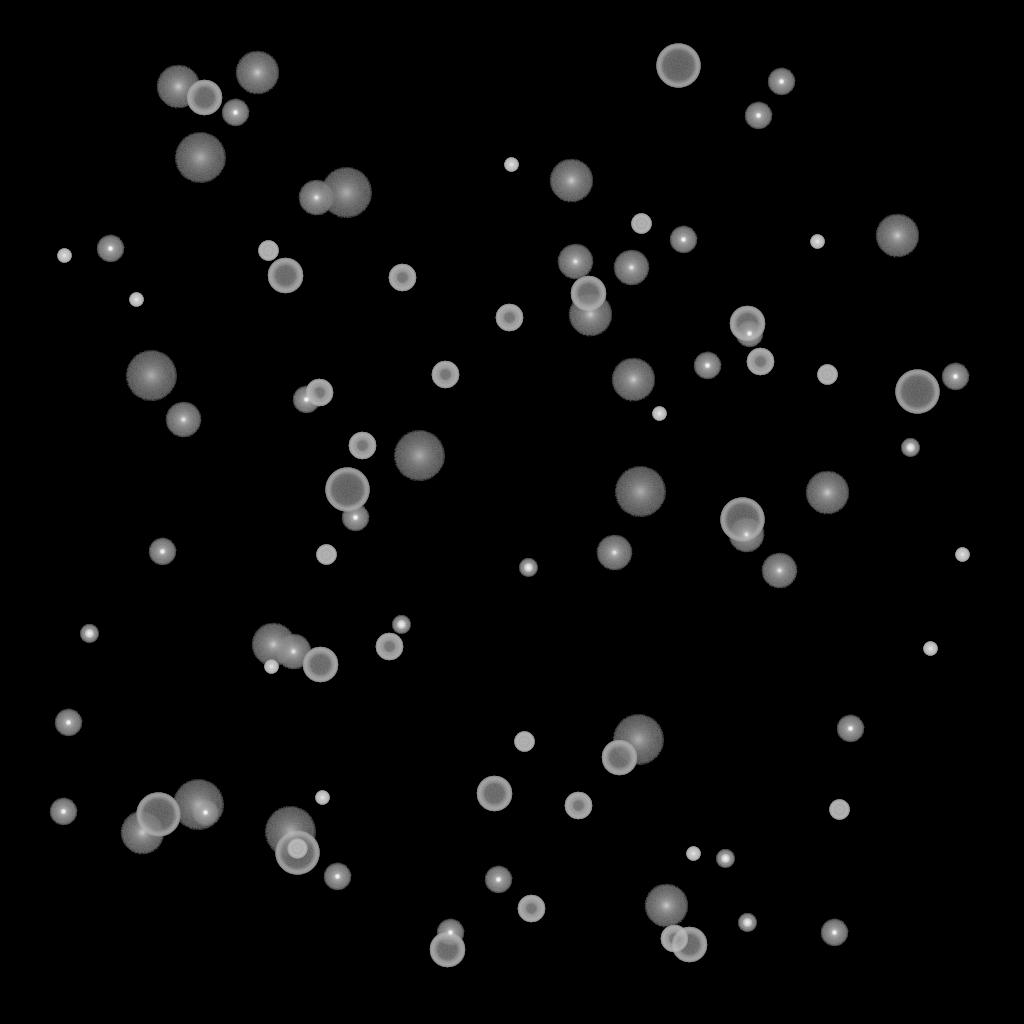depth:-10: (820, 919, 848, 947), (484, 866, 512, 894), (836, 715, 864, 743), (148, 538, 176, 566), (735, 320, 763, 348), (96, 235, 124, 263), (341, 504, 369, 532), (669, 226, 697, 254), (221, 99, 249, 127), (767, 68, 795, 96), (323, 863, 351, 891), (941, 363, 969, 391), (54, 709, 82, 737), (292, 386, 320, 414), (49, 798, 77, 826), (436, 919, 464, 947), (191, 799, 219, 827), (693, 352, 721, 380), (744, 102, 772, 130)
depth:-20: (738, 914, 756, 932), (716, 850, 734, 868), (519, 559, 537, 577), (392, 616, 410, 634), (901, 439, 919, 457), (80, 625, 98, 643)
depth:-30: (57, 249, 71, 263), (652, 407, 666, 421), (955, 548, 969, 562), (686, 847, 700, 861), (129, 293, 143, 307), (264, 660, 278, 674), (504, 158, 518, 172), (923, 642, 937, 656), (810, 235, 824, 249), (315, 791, 329, 805)
depth:-40: (631, 214, 651, 234), (829, 800, 849, 820), (287, 839, 307, 859), (817, 365, 837, 385), (514, 732, 534, 752), (258, 241, 278, 261), (316, 545, 336, 565)
depth:-50: (564, 792, 592, 820), (746, 348, 774, 376), (431, 361, 459, 389), (660, 925, 688, 953), (375, 633, 403, 661), (517, 895, 545, 923), (495, 304, 523, 332), (305, 379, 333, 407), (388, 264, 416, 292), (348, 432, 376, 460)
depth:-60: (570, 276, 606, 312), (729, 306, 765, 342), (671, 927, 707, 963), (186, 80, 222, 116), (267, 258, 303, 294), (429, 932, 465, 968), (476, 776, 512, 812), (601, 740, 637, 776), (302, 647, 338, 683)
depth:-70: (895, 370, 939, 414), (136, 793, 180, 837), (275, 831, 319, 875), (325, 468, 369, 512), (720, 498, 764, 542), (656, 44, 700, 88)
depth:0: (557, 244, 593, 280), (298, 180, 334, 216), (613, 250, 649, 286), (165, 402, 201, 438), (728, 517, 764, 553), (275, 634, 311, 670), (596, 535, 632, 571), (761, 553, 797, 589)
depth:10: (805, 471, 849, 515), (549, 159, 593, 203), (644, 884, 688, 928), (568, 293, 612, 337), (120, 811, 164, 855), (875, 214, 919, 258), (156, 65, 200, 109), (611, 358, 655, 402), (235, 51, 279, 95), (251, 623, 295, 667)
depth:20: (320, 168, 372, 218), (174, 133, 226, 183), (125, 351, 177, 401), (264, 807, 316, 857), (172, 780, 224, 830), (393, 431, 445, 481), (614, 467, 666, 517), (612, 715, 664, 765)
